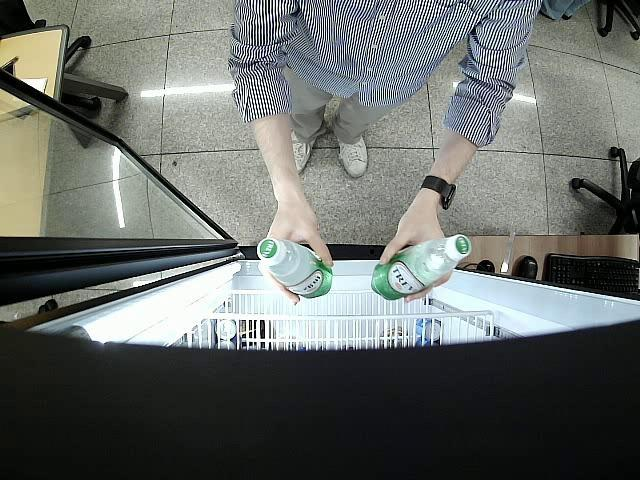18_trevi: (372, 234, 471, 301), (256, 238, 332, 298)
